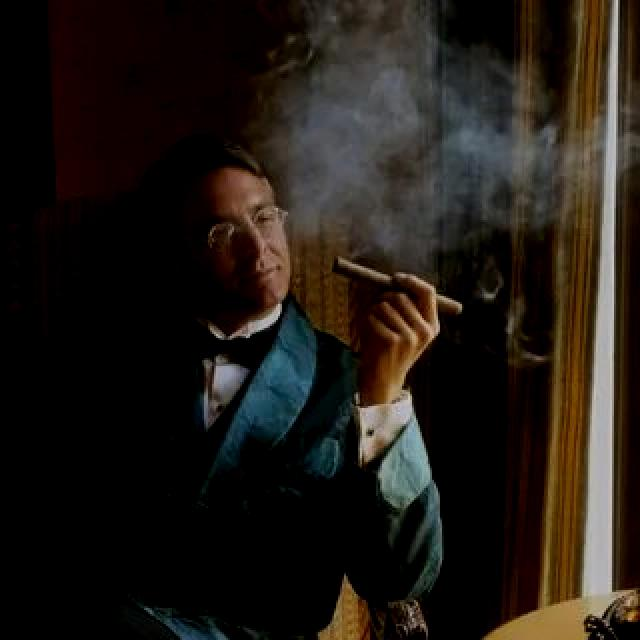smoke: (328, 252, 466, 320)
